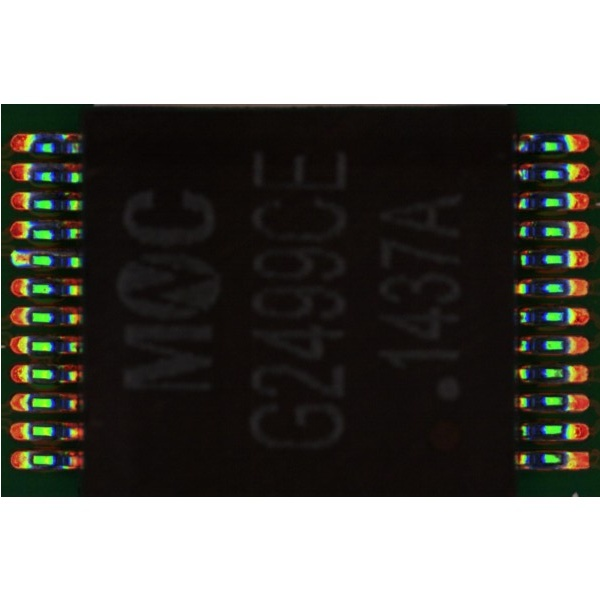Bad_podu: (22, 257, 39, 265)
Bad_qiaojiao: (29, 251, 79, 256)
